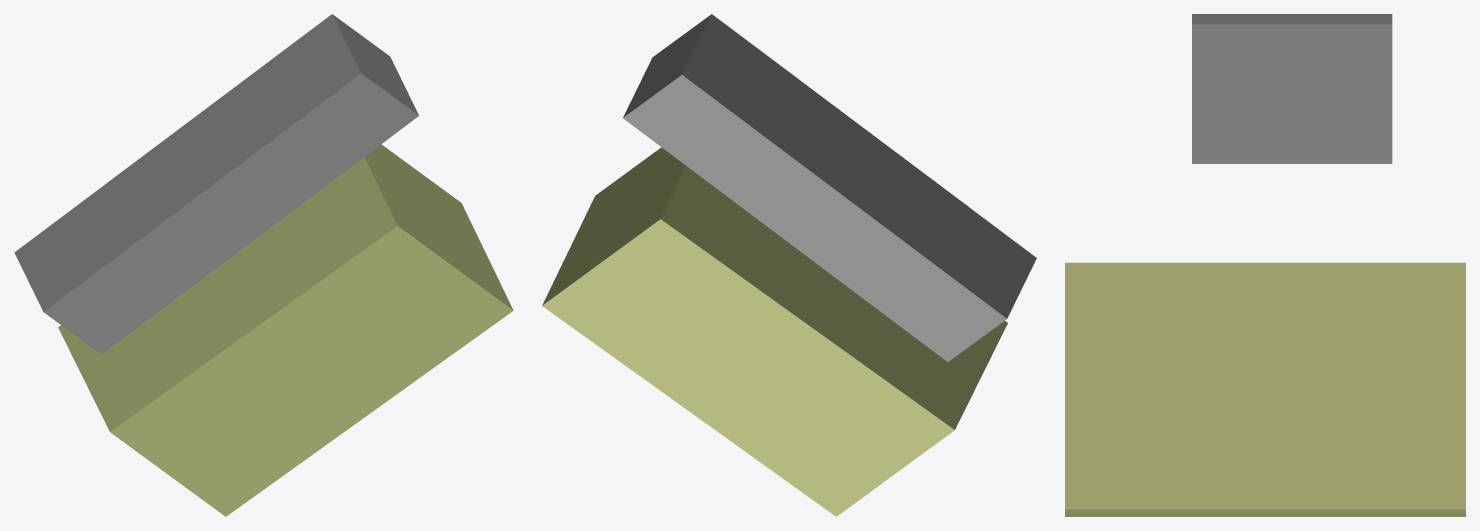
The picture shows the model from 3 angles, left to right: view 1: azimuth 30°, elevation 25°; view 2: azimuth 150°, elevation 25°; view 3: azimuth 270°, elevation 25°; orthographic projection. The views are drawn at different scales.
Visible parts, largest first — view 1: 0_1_0_0_0_1_2_1_2_3_0; view 2: 0_1_0_0_0_1_2_1_2_3_0; view 3: 0_1_0_0_0_1_2_1_2_3_0.
Part boxes in pixels (bbox=[...]): 0_1_0_0_0_1_2_1_2_3_0: bbox=[14, 14, 513, 516]; 0_1_0_0_0_1_2_1_2_3_0: bbox=[542, 14, 1036, 516]; 0_1_0_0_0_1_2_1_2_3_0: bbox=[1065, 14, 1465, 516].
Size of the model in its own units: 12.09 by 10.98 by 6.
